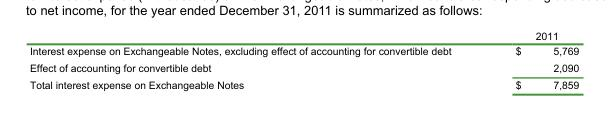table: (28, 29, 578, 89)
table column: (28, 29, 482, 89), (482, 29, 578, 89)
table column header: (28, 29, 578, 42)
table row: (28, 58, 578, 75), (28, 42, 578, 58), (28, 75, 578, 89), (28, 29, 578, 42)
